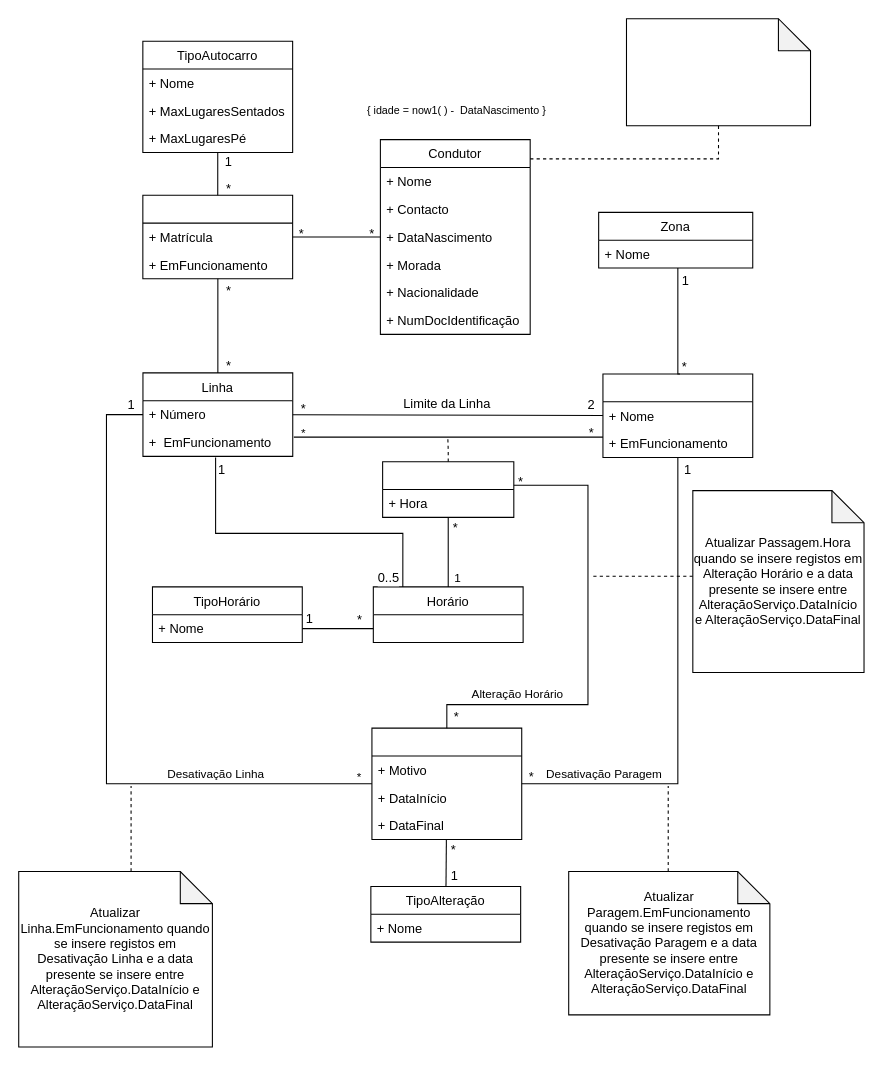
This 883x1066 diagram has some shape labels left out. Each missing label, with the box of its shape:
AlteraçãoServiço: (371, 727, 522, 839)
Autocarro: (142, 194, 293, 279)
Paragem: (602, 373, 753, 457)
Passagem: (382, 461, 514, 517)
{ chave candidata: NumDocIdentificação }: (625, 18, 811, 126)
